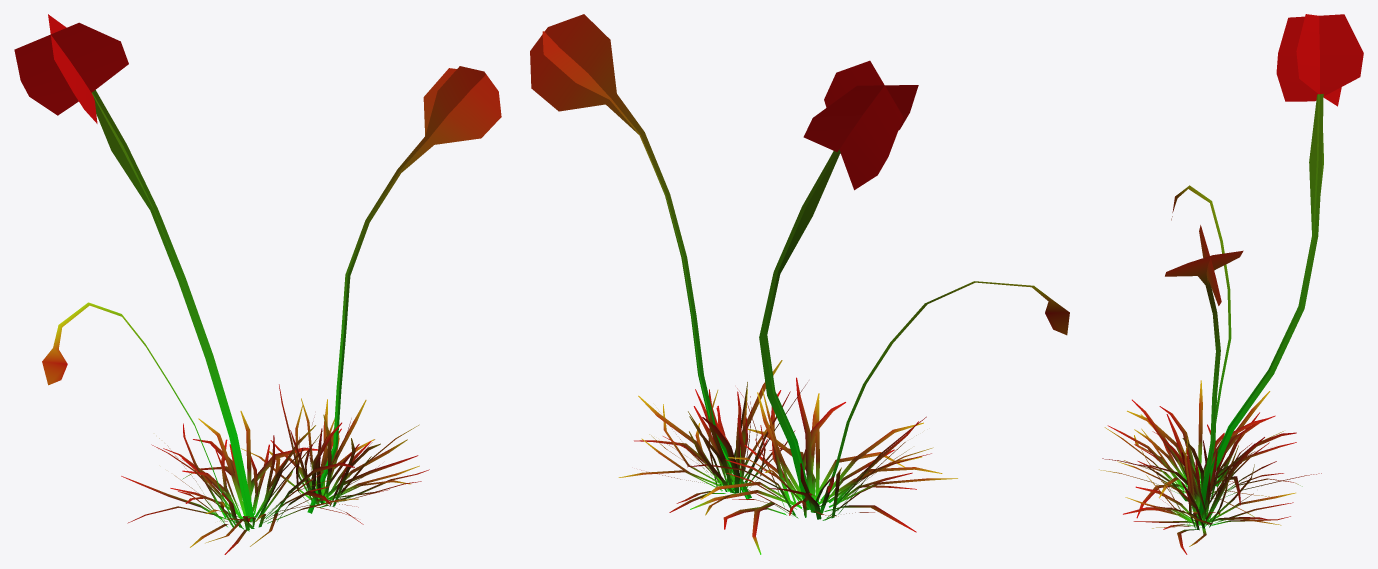
The model's file is Var8_LOD2.fbx.
3 renders of one model, left to right at view 1: azimuth 30°, elevation 25°; view 2: azimuth 150°, elevation 25°; view 3: azimuth 270°, elevation 25°, orthographic. The views are drawn at different scales.
Parts seen in each view (by area): view 1: _lfc3_Var8_LOD2; view 2: _lfc3_Var8_LOD2; view 3: _lfc3_Var8_LOD2.
Boxes of the visible parts, box(x1,y1,x2,y2) form: _lfc3_Var8_LOD2: box(14, 14, 501, 554); _lfc3_Var8_LOD2: box(530, 14, 1069, 554); _lfc3_Var8_LOD2: box(1099, 14, 1363, 554).
Bounding box in the file's own units: 13.36 × 13.19 × 7.27.
